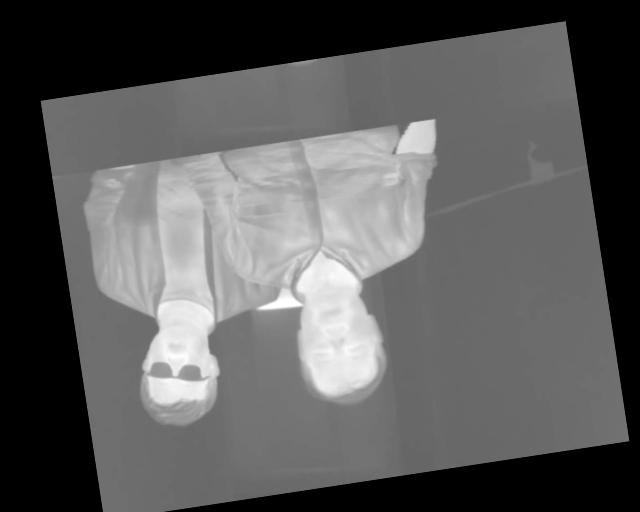face: (286, 277, 394, 413), (130, 317, 228, 433)
